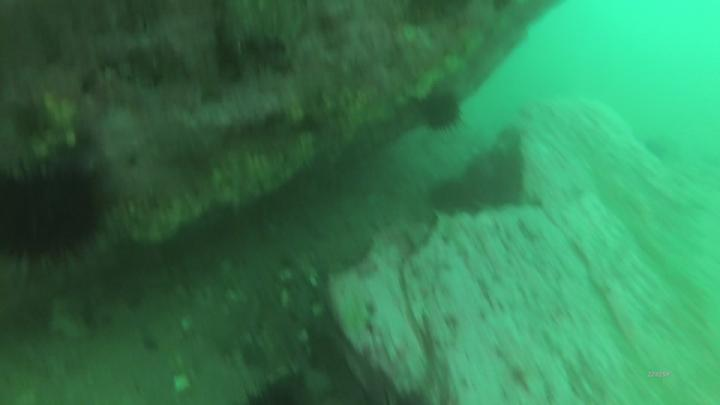echinus: (1, 153, 114, 273), (240, 368, 317, 405), (419, 89, 465, 134)
